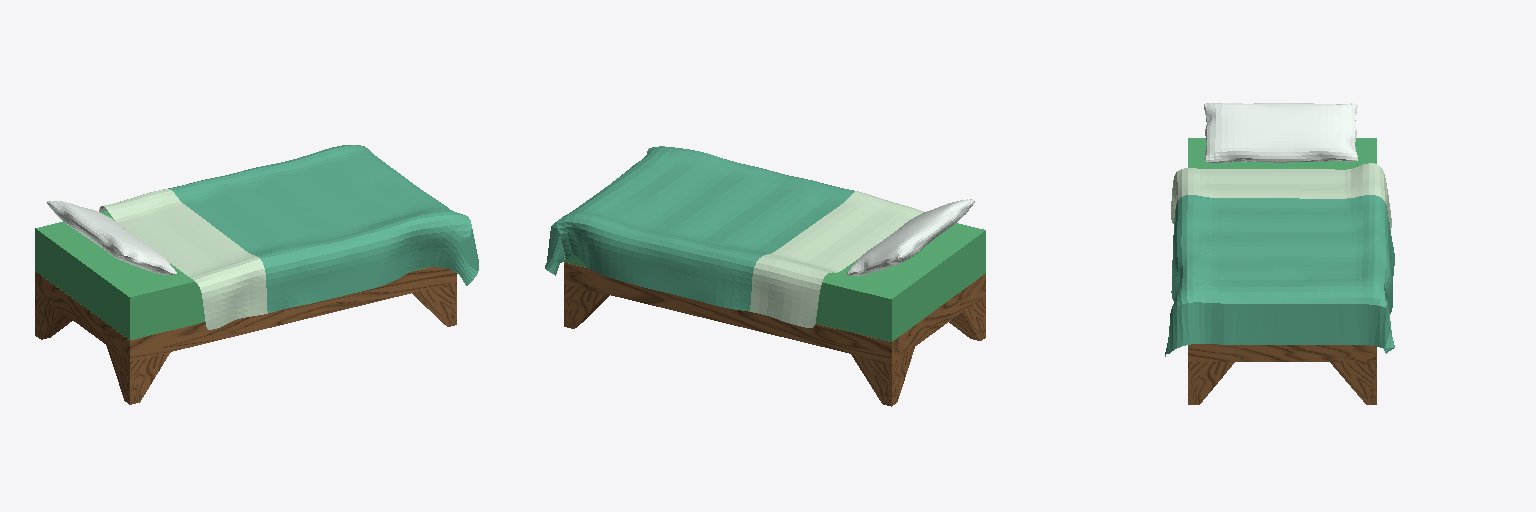
3 renders of one model, left to right at view 1: azimuth 30°, elevation 25°; view 2: azimuth 150°, elevation 25°; view 3: azimuth 270°, elevation 25°, orthographic.
Visible parts, largest first — view 1: pasted__polySurface189; view 2: pasted__polySurface189; view 3: pasted__polySurface189.
Boxes of the visible parts, box(x1,y1,x2,y2) form: pasted__polySurface189: box(35, 145, 478, 404); pasted__polySurface189: box(545, 146, 985, 406); pasted__polySurface189: box(1165, 103, 1394, 404).
Bounding box in the file's own units: 3.91 × 1.59 × 2.27.
4 materials, 4 textured.